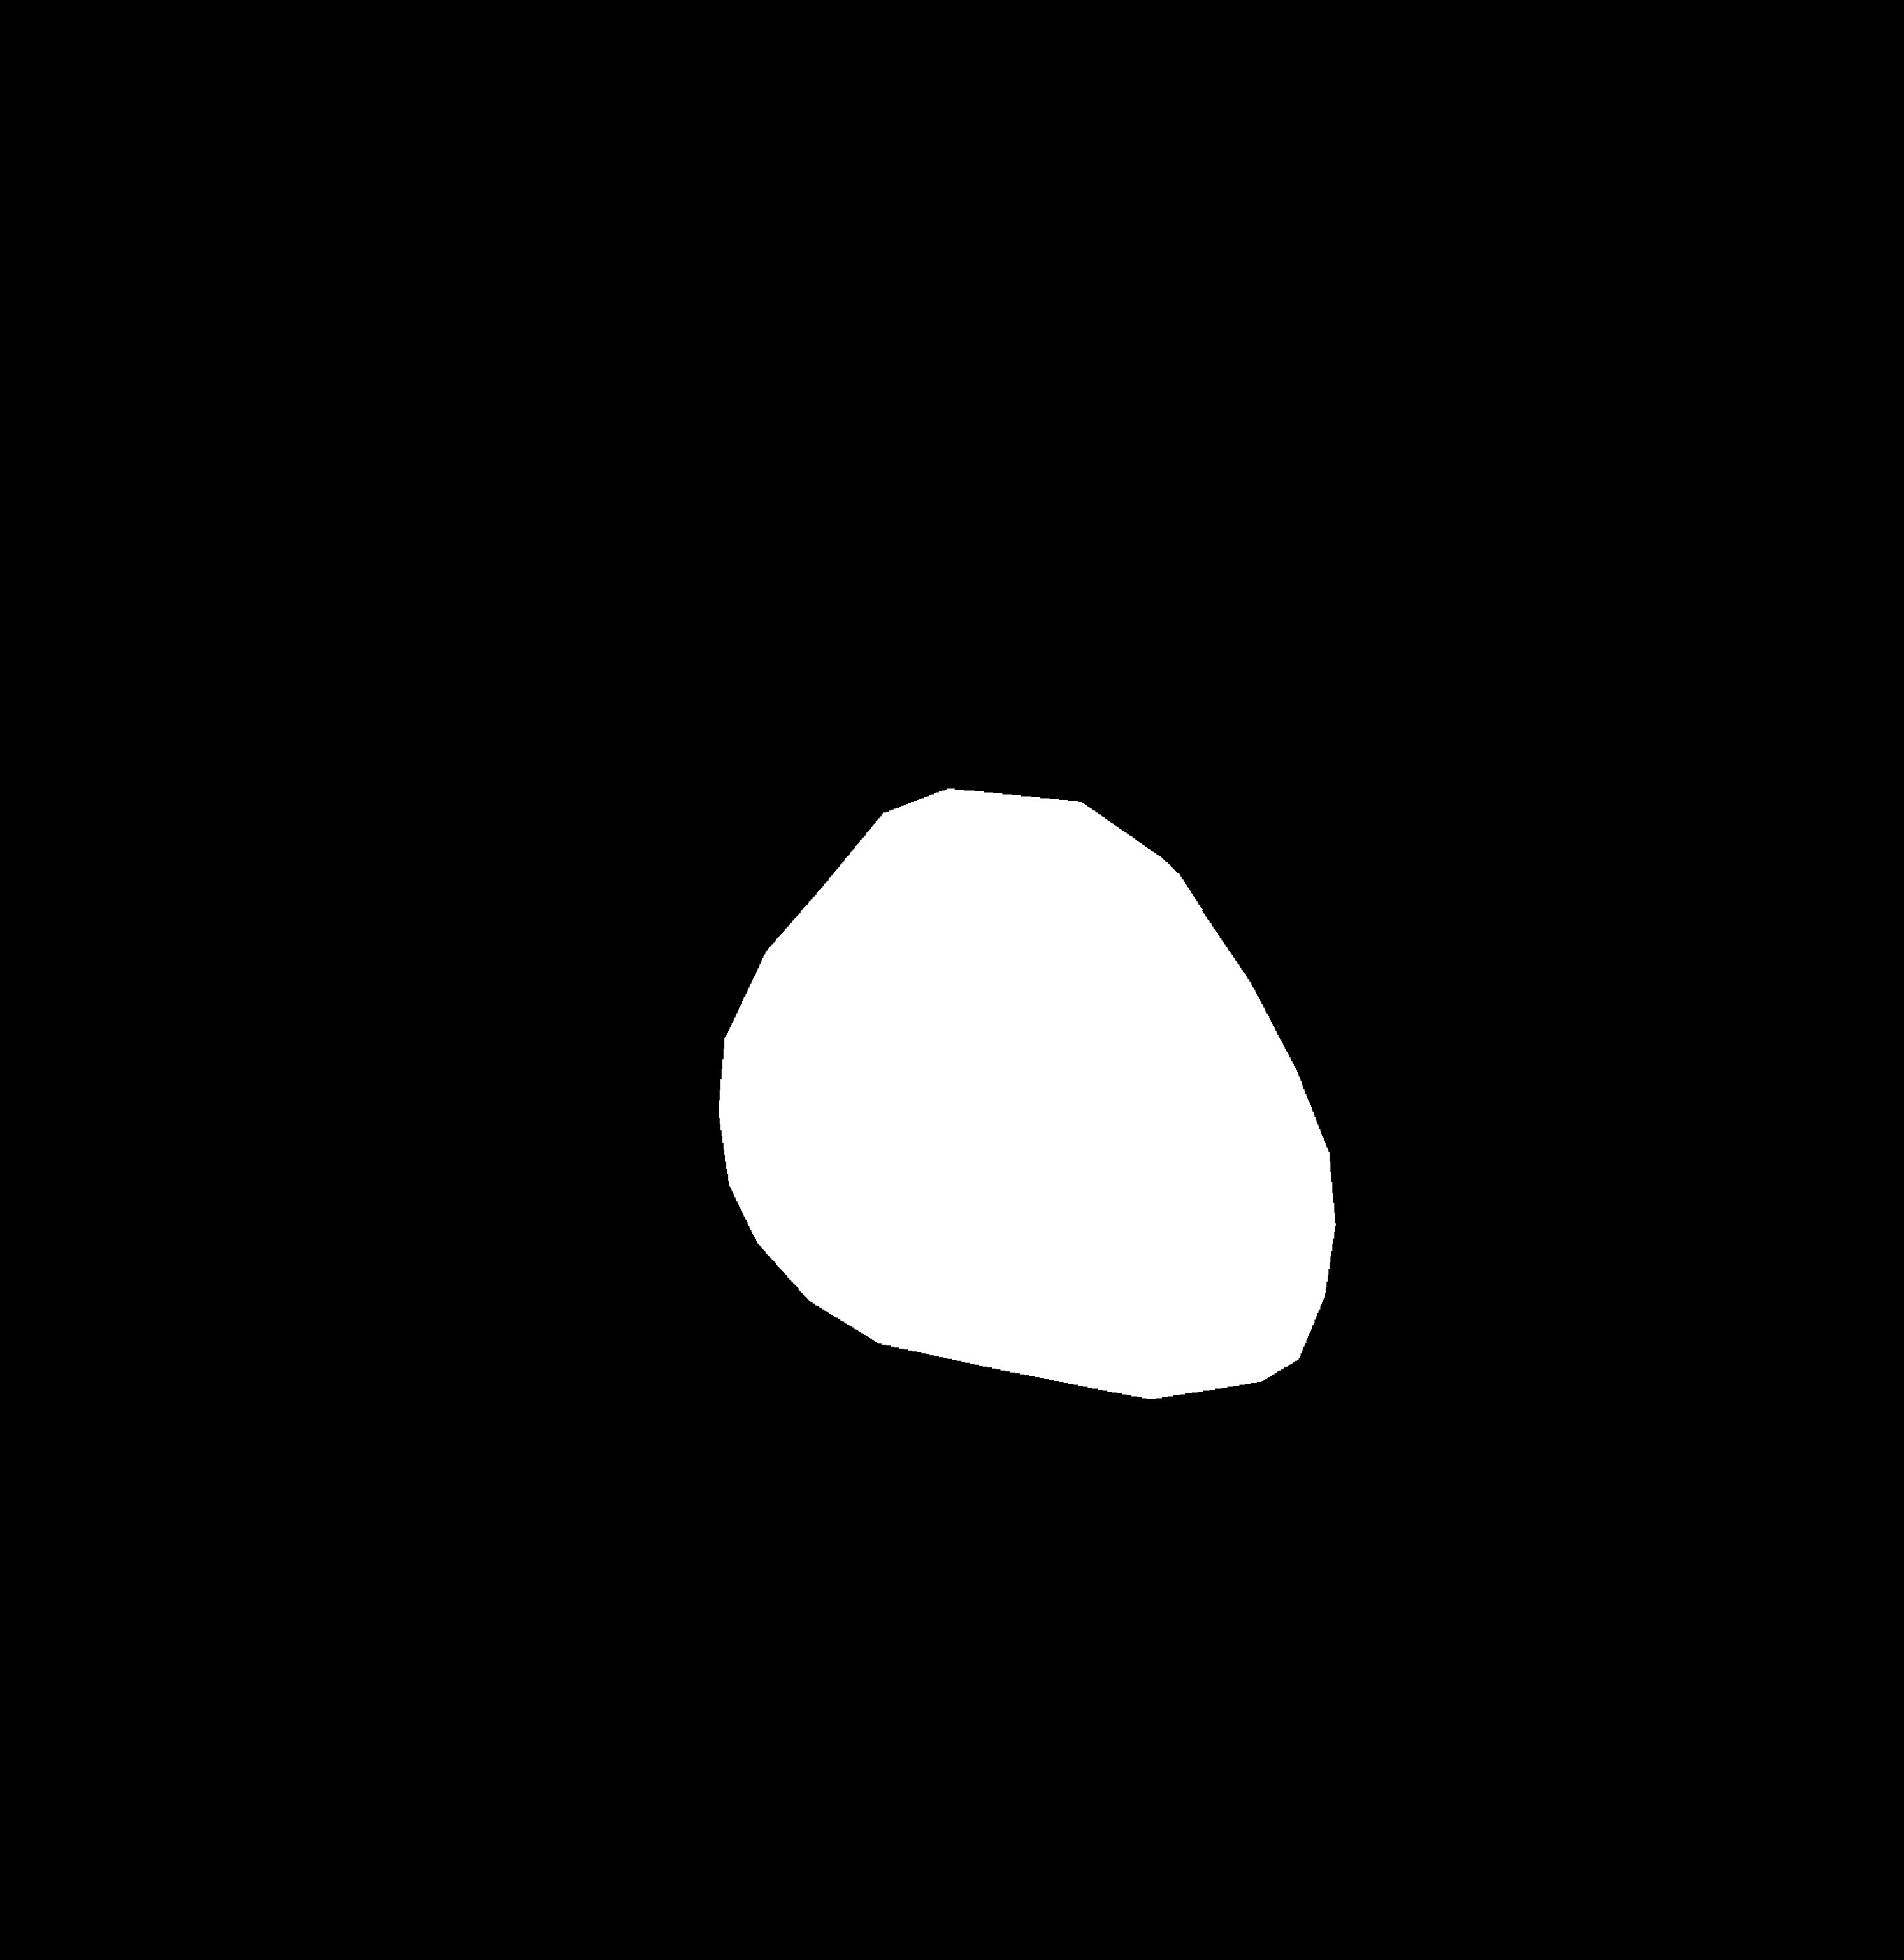heart: (716, 893, 1332, 1386)
left_lung: (264, 245, 882, 1608)
right_lung: (1024, 254, 1612, 1517)
